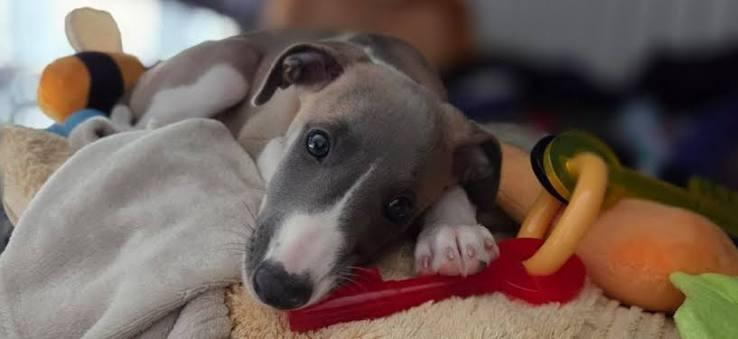puppy-dog: (111, 29, 505, 311)
